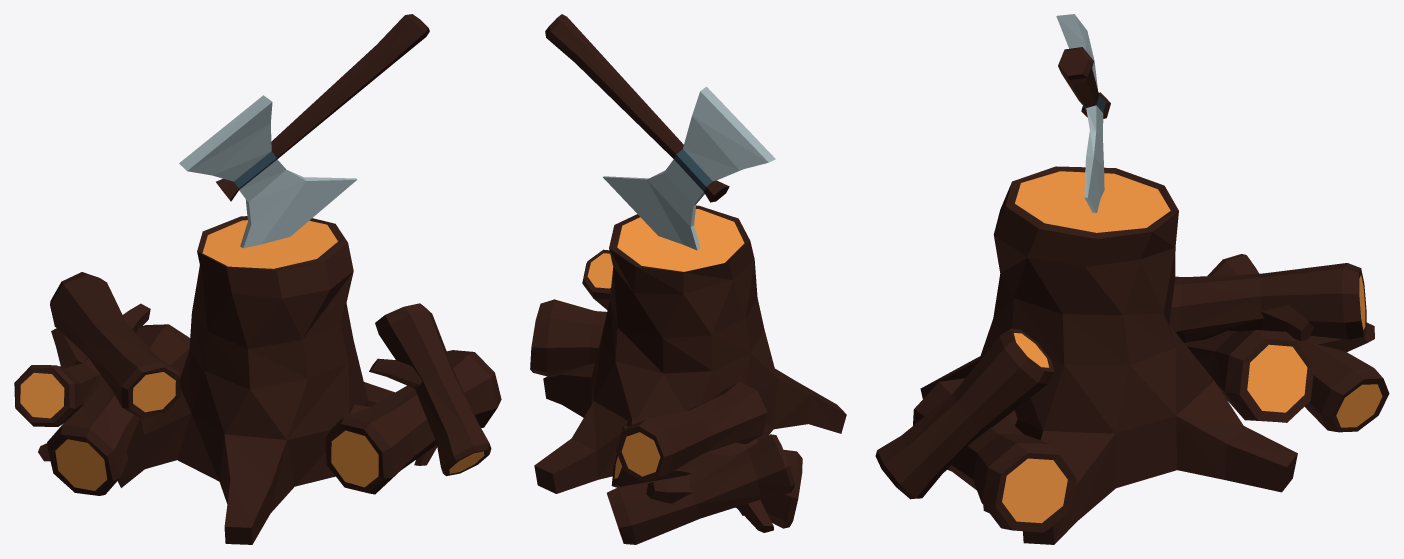
File: log_axe.obj
The picture shows the model from 3 angles, left to right: view 1: azimuth 30°, elevation 25°; view 2: azimuth 150°, elevation 25°; view 3: azimuth 270°, elevation 25°; orthographic projection. The views are drawn at different scales.
Parts seen in each view (by area): view 1: group1045108175; view 2: group1045108175; view 3: group1045108175.
Part boxes in pixels (x1,y1,x2,y2): group1045108175: (14,14,501,544); group1045108175: (530,14,846,544); group1045108175: (875,14,1389,544).
Size of the model in its own units: 0.2707 by 0.3023 by 0.2775.
